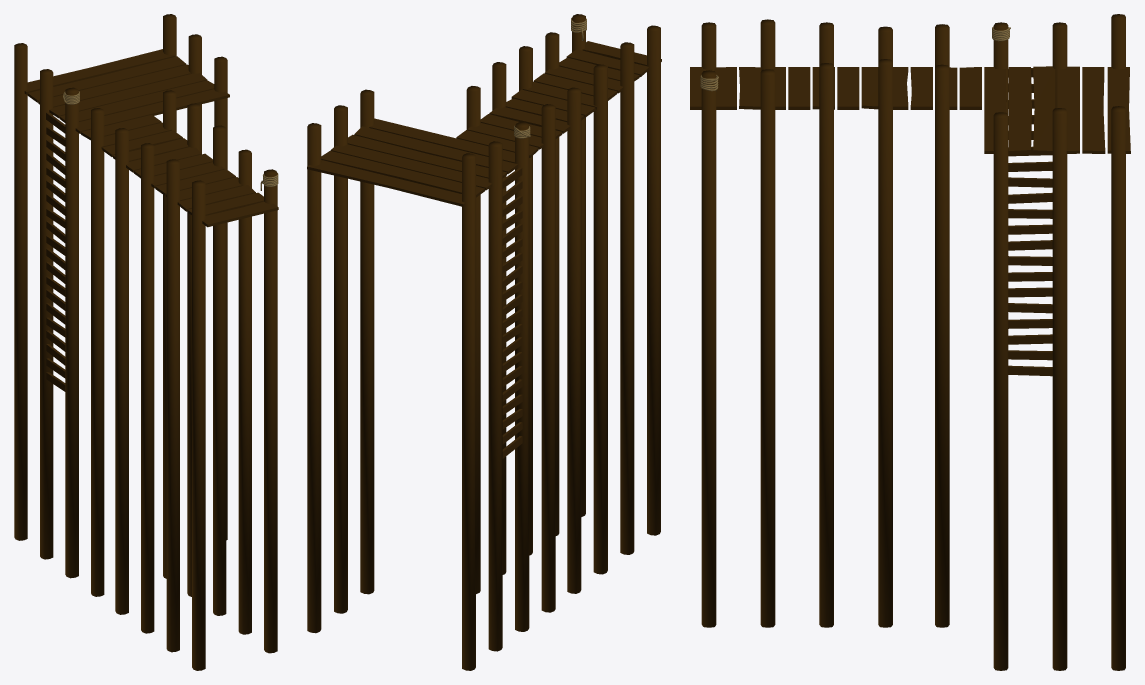
The model's file is WoodenPier_Cargo_Small.fbx.
The picture shows the model from 3 angles, left to right: view 1: azimuth 30°, elevation 25°; view 2: azimuth 150°, elevation 25°; view 3: azimuth 270°, elevation 25°; orthographic projection. The views are drawn at different scales.
Parts seen in each view (by area): view 1: WoodenPier_Poles, WoodenPier_Planks, WoodenPier_Ladder; view 2: WoodenPier_Poles, WoodenPier_Planks, WoodenPier_Ladder; view 3: WoodenPier_Poles, WoodenPier_Planks, WoodenPier_Ladder.
Part boxes in pixels (x1=…): WoodenPier_Poles: x1=14, y1=14, x2=277, y2=670; WoodenPier_Planks: x1=24, y1=49, x2=278, y2=227; WoodenPier_Ladder: x1=46, y1=112, x2=65, y2=391; WoodenPier_Poles: x1=307, y1=14, x2=660, y2=670; WoodenPier_Planks: x1=307, y1=41, x2=661, y2=206; WoodenPier_Ladder: x1=502, y1=167, x2=522, y2=458; WoodenPier_Poles: x1=701, y1=14, x2=1125, y2=670; WoodenPier_Planks: x1=690, y1=66, x2=1130, y2=153; WoodenPier_Ladder: x1=1008, y1=68, x2=1052, y2=376.
Bounding box in the file's own units: 12.89 × 37.45 × 26.37.
